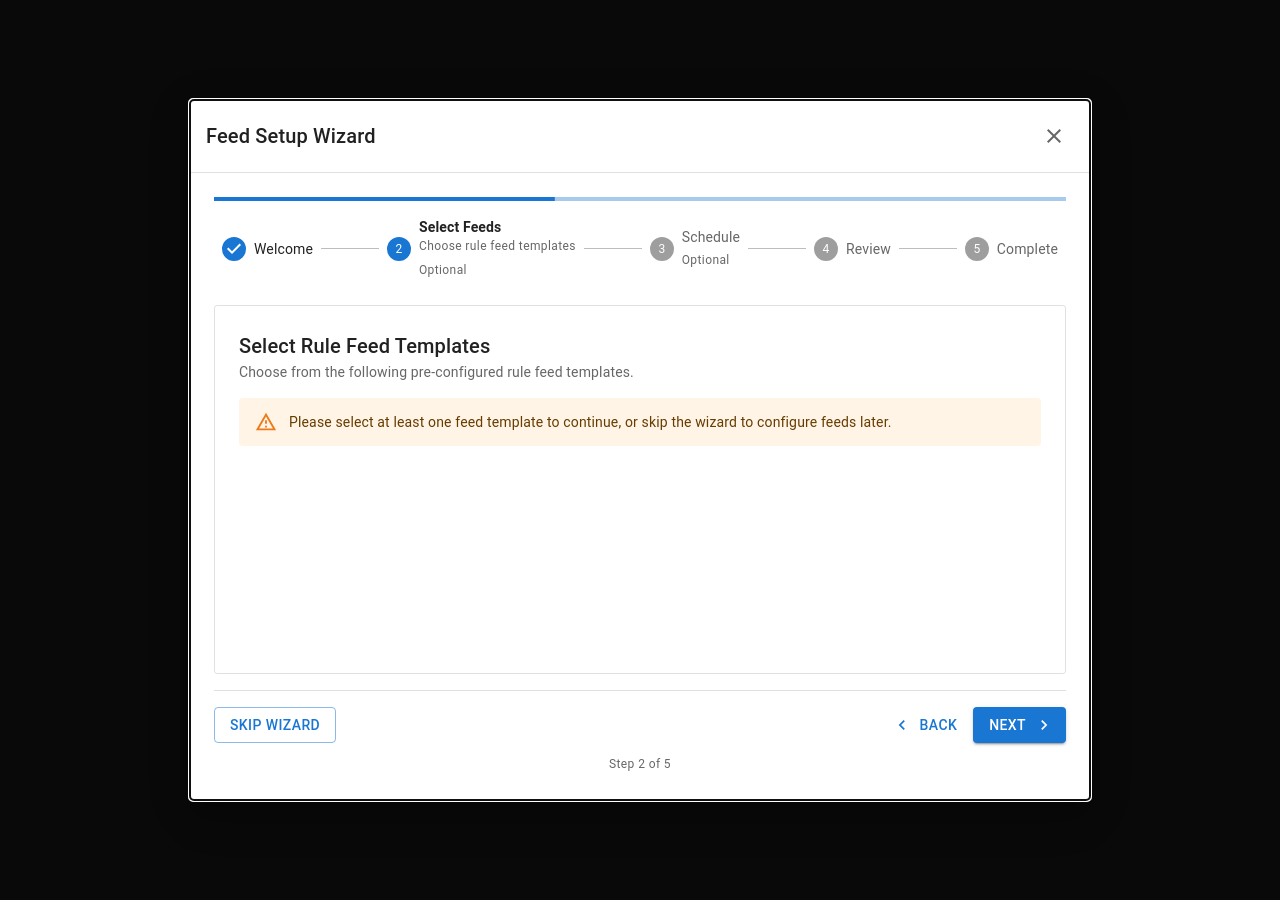
Scenario: FeedSetupWizard › Navigation › should navigate backward with Back button
Check: the heading "Select Rule Feed Templates" is shown, box [239,334,490,358]
Click the button "Back" at (926, 725), box [888,706,965,743]
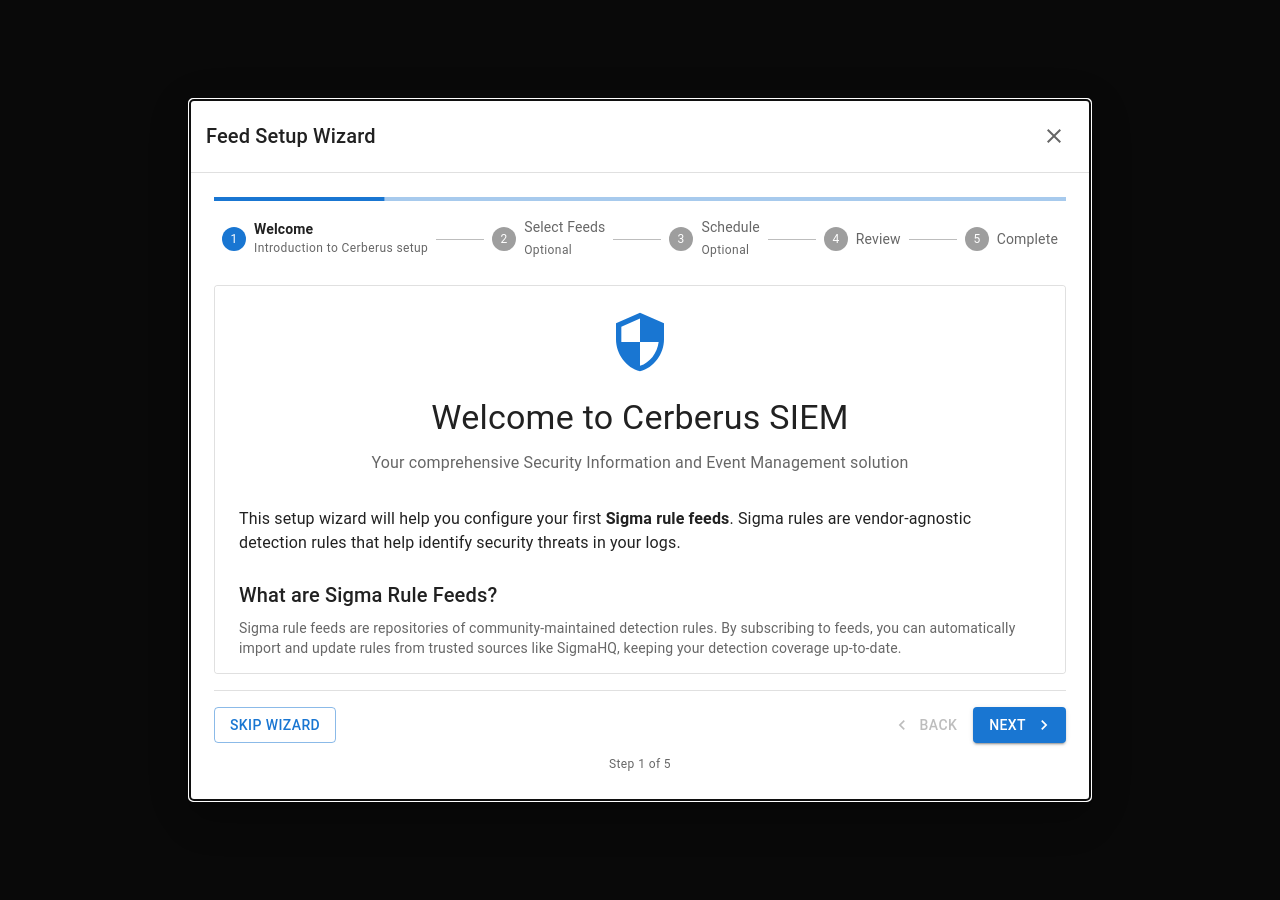
Check: the heading "Welcome to Cerberus SIEM" is shown, box [431,397,849,437]
